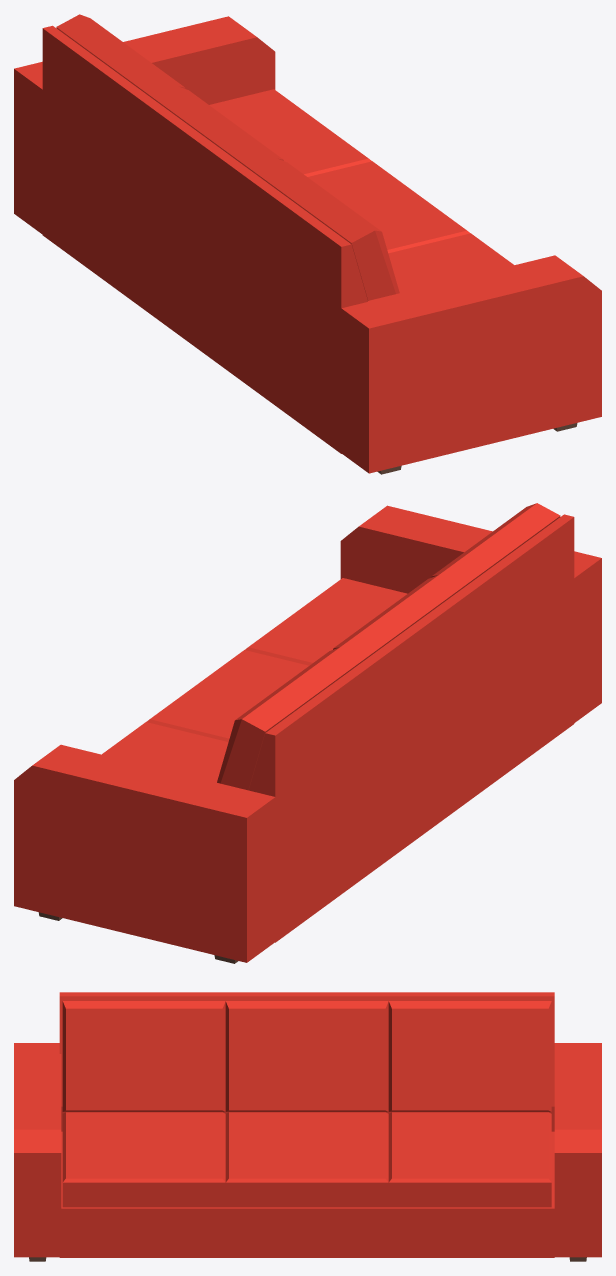
Rendered from Sofa.glb.
The picture shows the model from 3 angles, top to bottom: view 1: azimuth 30°, elevation 25°; view 2: azimuth 150°, elevation 25°; view 3: azimuth 270°, elevation 25°; orthographic projection. The views are drawn at different scales.
Parts seen in each view (by area): view 1: couch_Cube.029; view 2: couch_Cube.029; view 3: couch_Cube.029.
Part boxes in pixels (bbox=[...]): couch_Cube.029: bbox=[14, 14, 601, 474]; couch_Cube.029: bbox=[14, 503, 601, 963]; couch_Cube.029: bbox=[14, 992, 601, 1261].
Size of the model in its own units: 10.52 by 9.76 by 27.79.
